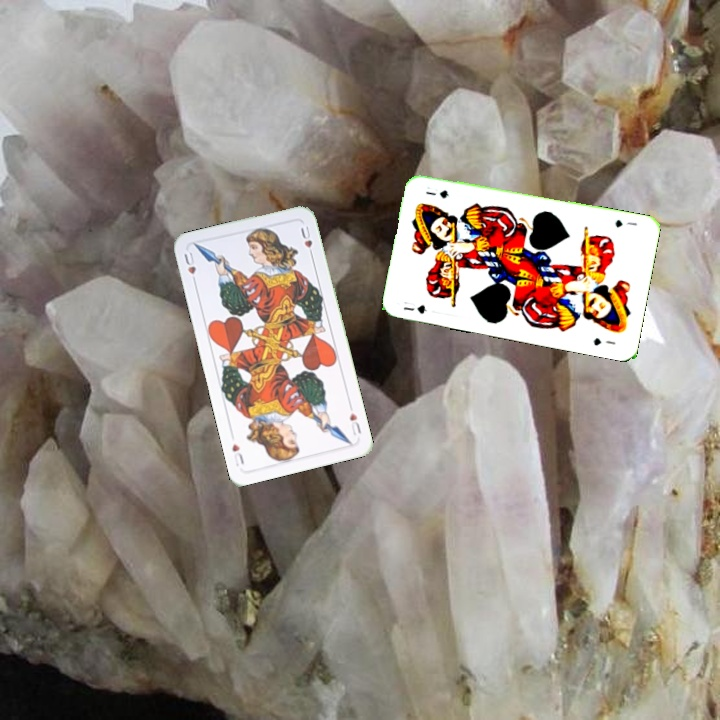GU: (399, 298, 429, 316), (611, 215, 639, 230)
HU: (180, 248, 199, 287), (345, 401, 364, 438)
